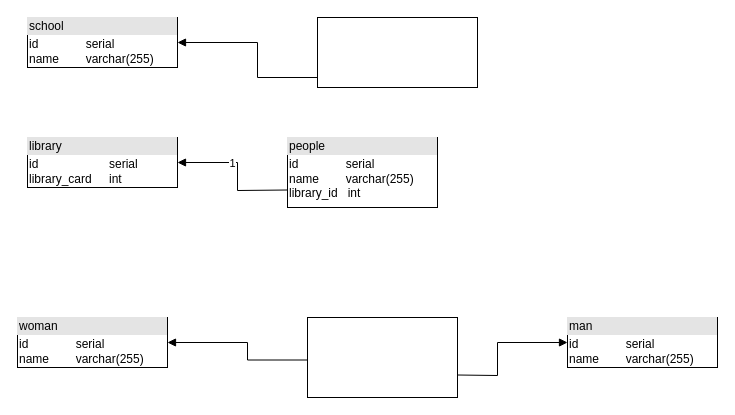
Image size: 735x415. Some labels were removed from this diagram. Here are the shapes that lost their labels. From the top down, the centre of each, then its label:
point (397, 52): pupil id serial name varchar(255) shcool_id int
point (382, 357): couple id serial wife_id int husband_id int ex_couple boolean
